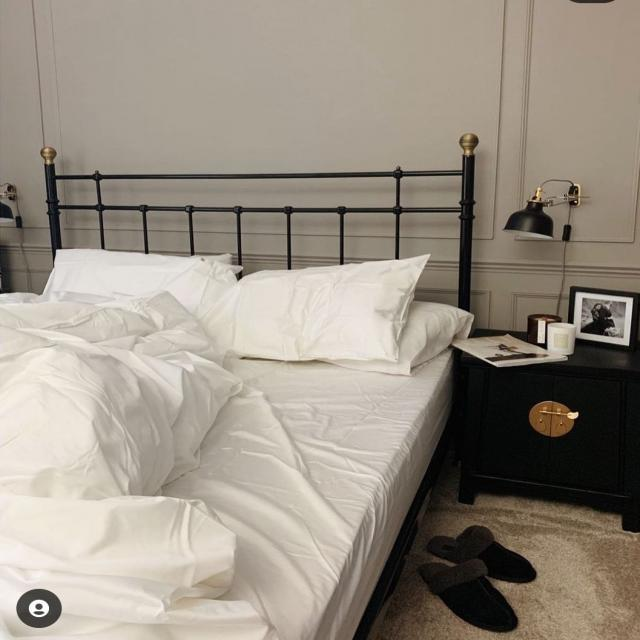bed: (0, 171, 470, 601)
